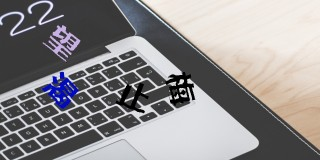望: (41, 23, 80, 64)
梅: (164, 71, 197, 106)
止: (117, 82, 150, 114)
渴: (42, 72, 78, 109)
